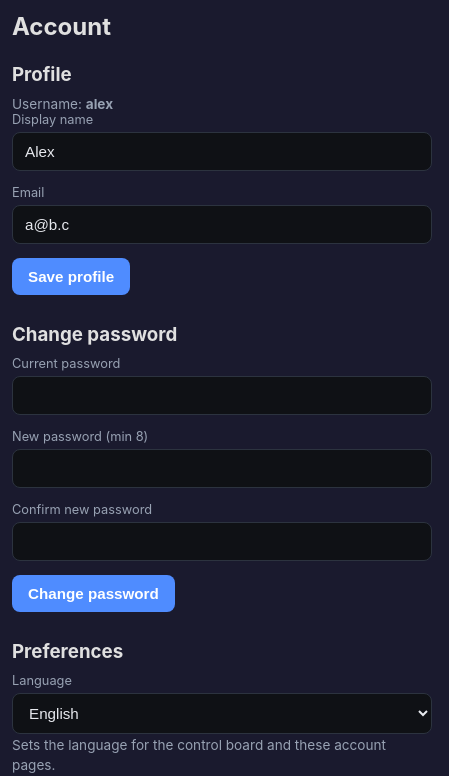
Scenario: AccountSettingsPage language preference › switches the whole account UI to the chosen language and persists it
Select "Español" in the dropdown: (222, 714) [12,693,432,734]
(page scrolled)
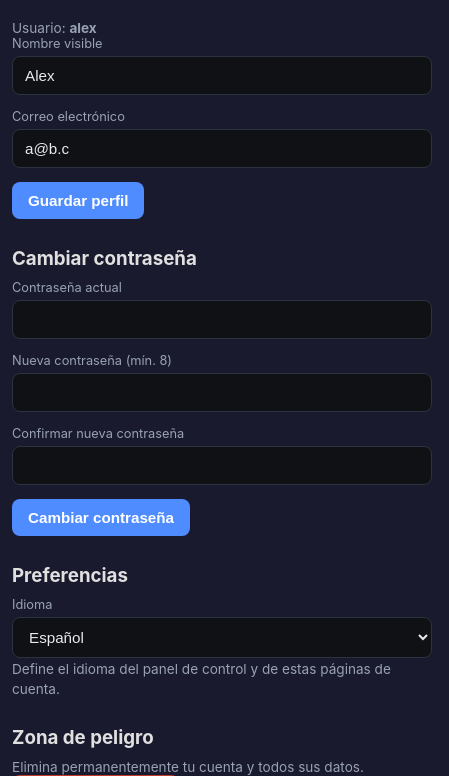
Result: the heading "Preferencias" is shown at [12,564,128,587]
Result: the heading "Zona de peligro" is shown at [12,726,154,749]
